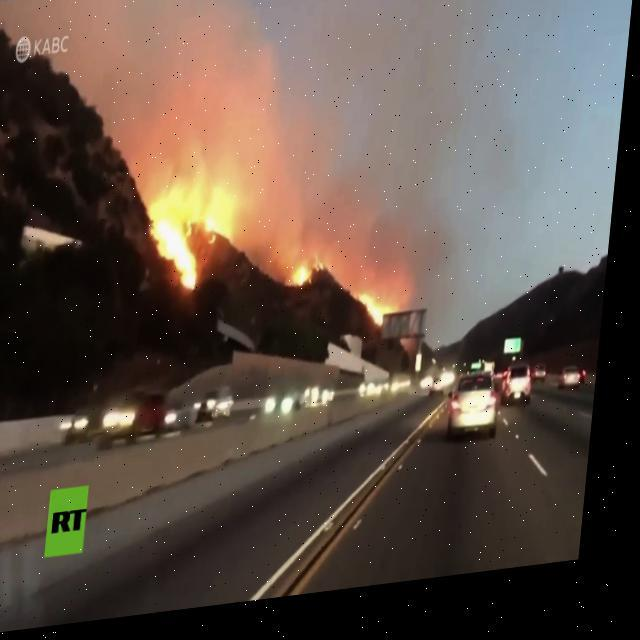Fire: (145, 182, 241, 298), (362, 294, 406, 340), (300, 269, 320, 295)
